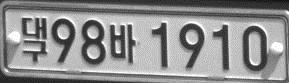0: (241, 25, 267, 71)
1: (210, 24, 237, 70), (148, 22, 175, 67)
8: (80, 19, 106, 65)
9: (178, 22, 204, 68), (51, 17, 76, 63)
대구_V: (21, 16, 48, 62)
바: (109, 24, 136, 63)
